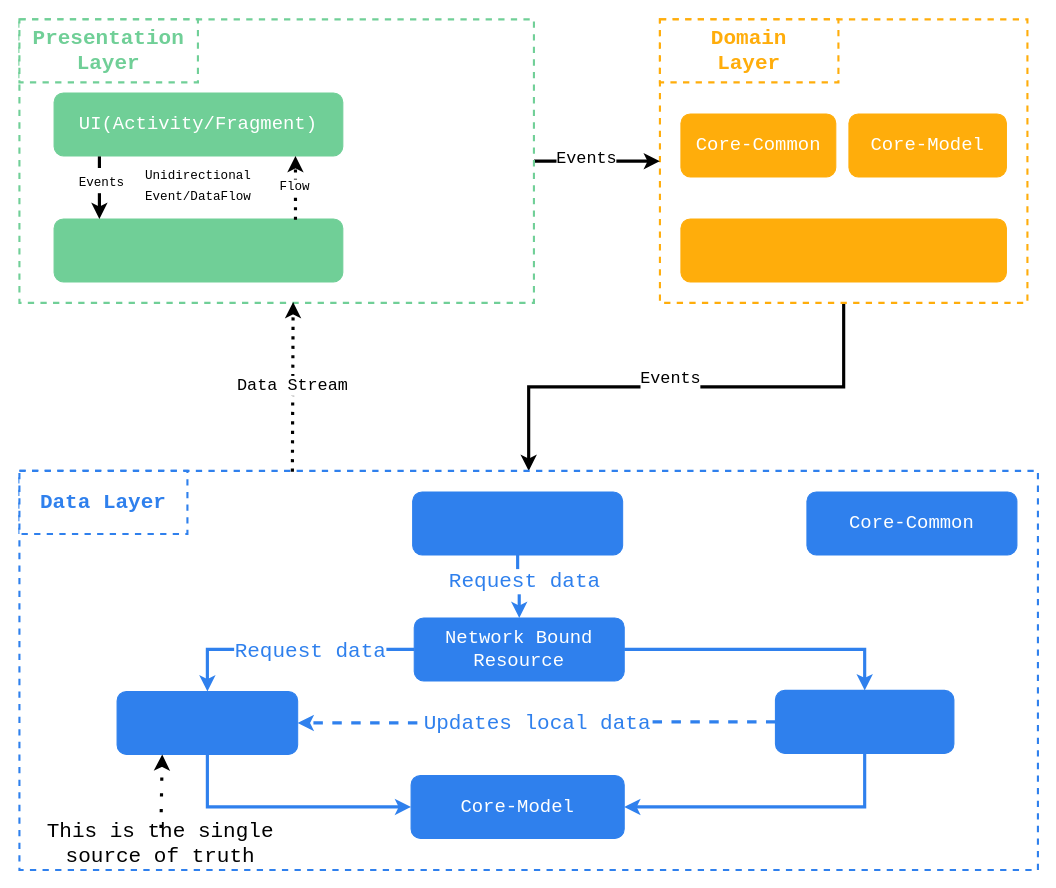
The diagram is 1056 pixels wide and 888 high, and some of its shapes have lost their labels. Here are the shapes that lost their labels. From the top down, the centre of each, then its label:
[198,250]: ViewModel - StateFlow
[843,250]: UseCases
[517,523]: Repository
[207,722]: Core-Database
[864,721]: Core-Network
